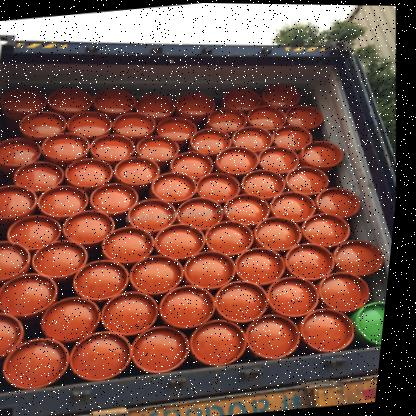gas-tank: (129, 320, 212, 380), (0, 333, 83, 393), (67, 324, 147, 386), (95, 285, 171, 343), (152, 282, 235, 335), (43, 293, 118, 346), (261, 266, 331, 321), (190, 315, 261, 368), (298, 302, 370, 354), (209, 274, 280, 326), (0, 269, 69, 320), (196, 211, 266, 261), (67, 259, 142, 305), (249, 310, 312, 363), (316, 266, 384, 312), (297, 205, 365, 251), (59, 202, 126, 248), (279, 240, 347, 285), (6, 214, 80, 255), (132, 253, 197, 299), (235, 242, 295, 290), (221, 186, 283, 232), (102, 105, 173, 145), (333, 235, 396, 280), (86, 126, 152, 168), (102, 224, 167, 266), (8, 154, 76, 194), (182, 252, 245, 295), (114, 146, 172, 192), (171, 194, 236, 234), (345, 294, 391, 350), (213, 135, 269, 181), (143, 168, 207, 207), (127, 194, 187, 235), (41, 128, 104, 167), (269, 187, 330, 227), (157, 220, 212, 263), (312, 183, 372, 222), (62, 107, 128, 142), (44, 239, 99, 281), (65, 151, 121, 192), (257, 213, 313, 254), (169, 143, 225, 183), (91, 176, 145, 217), (42, 181, 97, 220), (258, 140, 314, 178), (43, 79, 96, 119), (91, 79, 144, 119), (18, 107, 80, 141), (170, 82, 224, 120), (240, 161, 293, 199), (130, 83, 179, 124), (0, 82, 49, 122), (0, 310, 35, 365), (0, 184, 51, 221), (200, 168, 253, 203), (299, 137, 353, 171), (286, 160, 337, 196), (214, 78, 266, 113), (269, 117, 319, 153), (0, 137, 55, 169), (142, 125, 186, 165), (191, 120, 240, 155), (261, 74, 309, 109), (235, 121, 283, 156), (280, 101, 328, 134), (0, 241, 37, 281), (161, 110, 203, 138), (205, 108, 251, 131), (245, 106, 287, 131)
